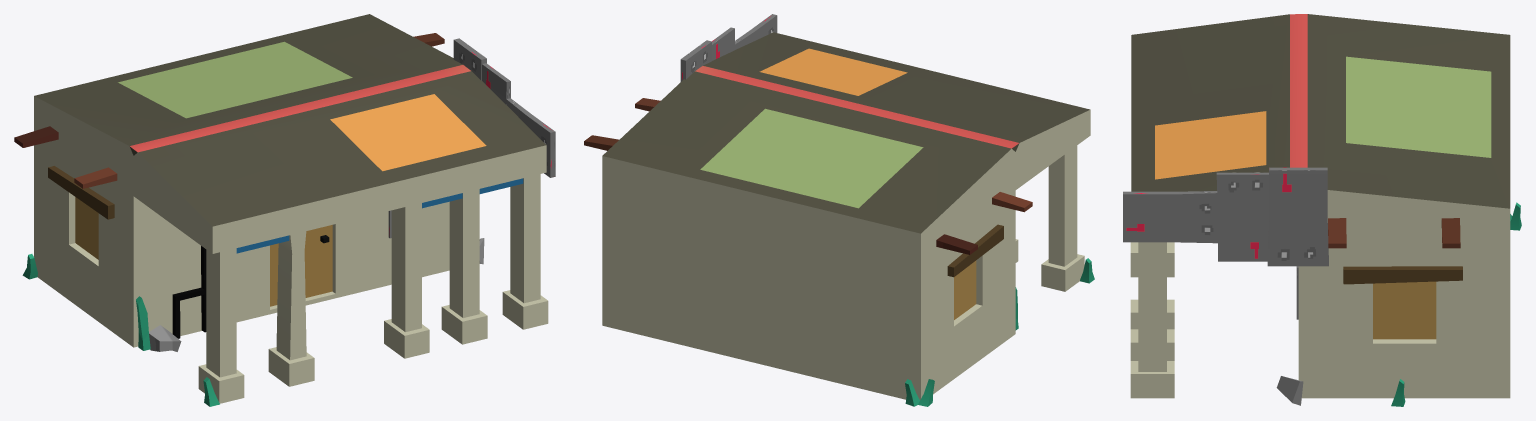
The model's file is Dessert_House_b.fbx.
The picture shows the model from 3 angles, left to right: view 1: azimuth 30°, elevation 25°; view 2: azimuth 150°, elevation 25°; view 3: azimuth 270°, elevation 25°; orthographic projection. The views are drawn at different scales.
Visible parts, largest first — view 1: Dessert_House_b; view 2: Dessert_House_b; view 3: Dessert_House_b.
Boxes of the visible parts, x1,y1,x2,y2 form: Dessert_House_b: (14, 14, 555, 406); Dessert_House_b: (584, 14, 1094, 406); Dessert_House_b: (1123, 14, 1521, 406).
Bounding box in the file's own units: 18.48 × 9.39 × 14.52.
Materials: 1 (1 with a texture image).
